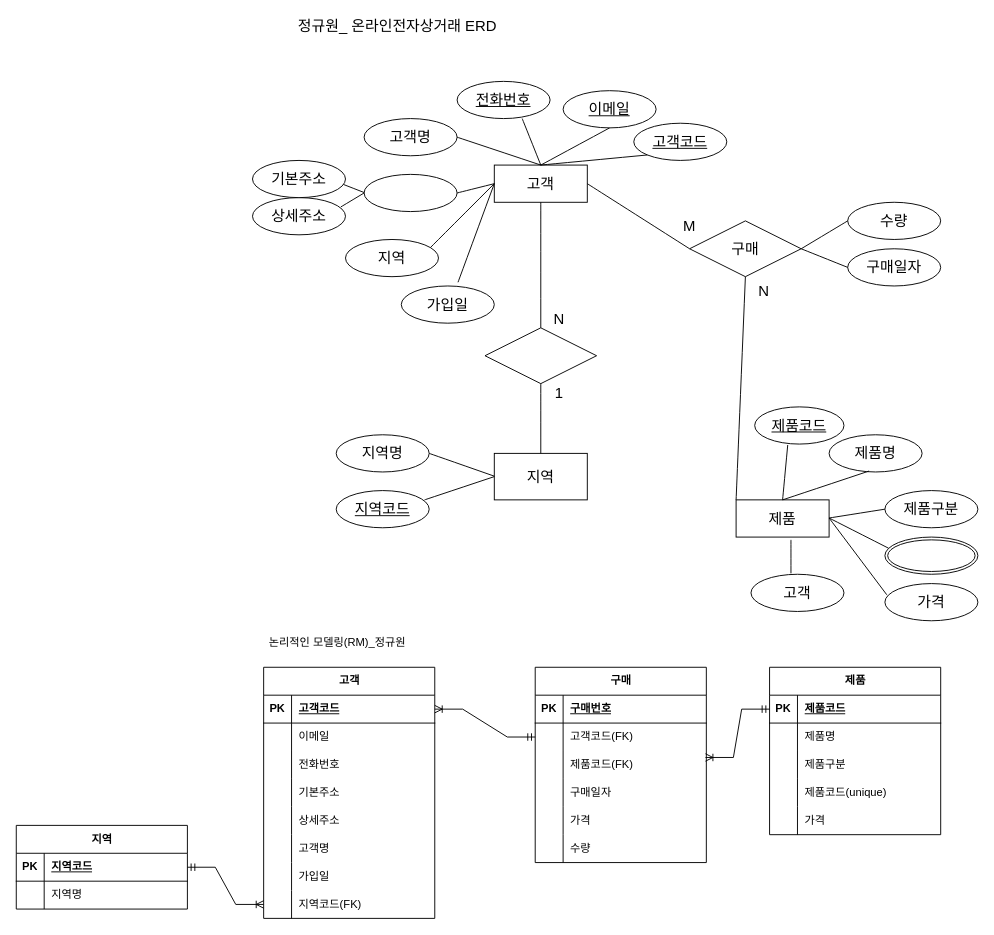
Image size: 994x935. Some labels were removed from this diagram. Here are the shapes that lost their labels. From the top down, the centre of each, then its label:
At point (410, 192): "주소".
At point (540, 355): "관리".
At point (931, 555): "제품색상".
